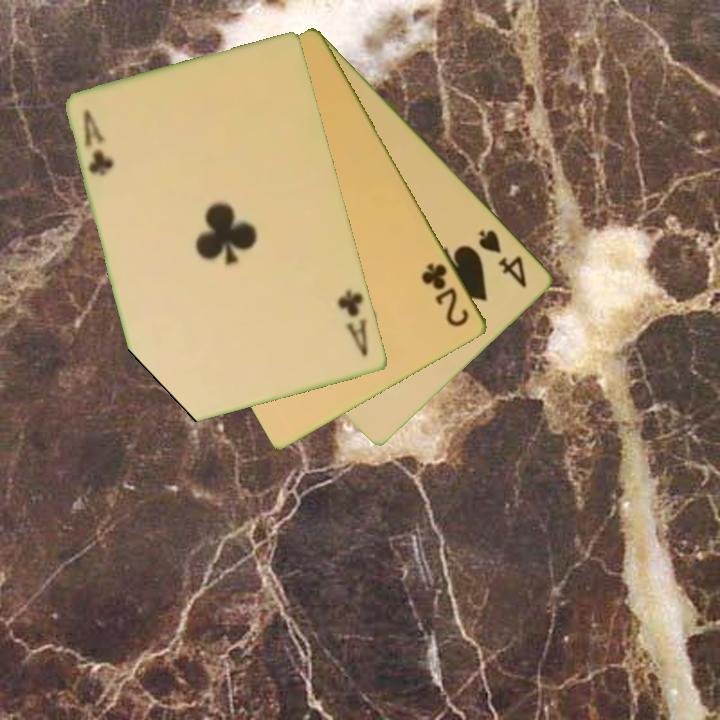2c: (418, 259, 473, 330)
4s: (475, 226, 531, 291)
Ac: (334, 286, 372, 360), (80, 106, 118, 180)
